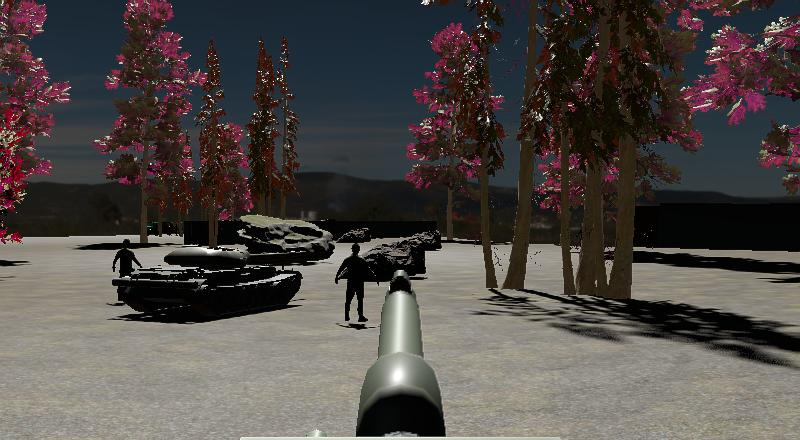Human: (334, 242, 379, 325), (110, 235, 144, 305)
Tank: (111, 241, 309, 323)
